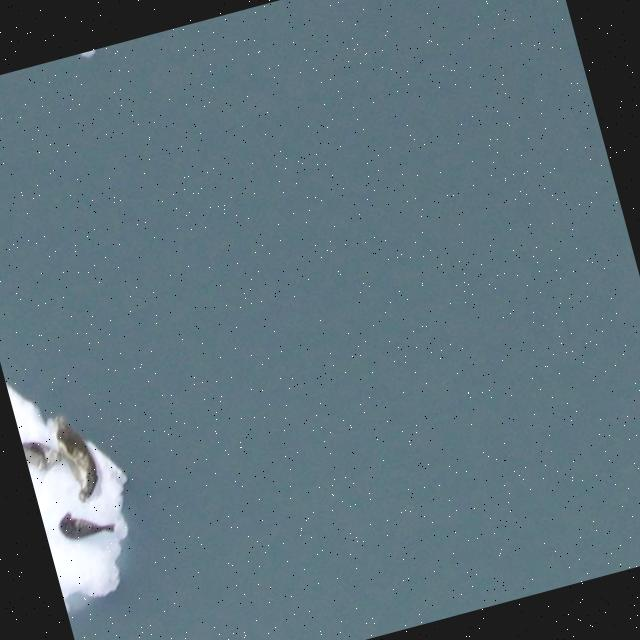seal: (49, 412, 103, 503), (54, 512, 115, 551), (16, 438, 63, 475)
